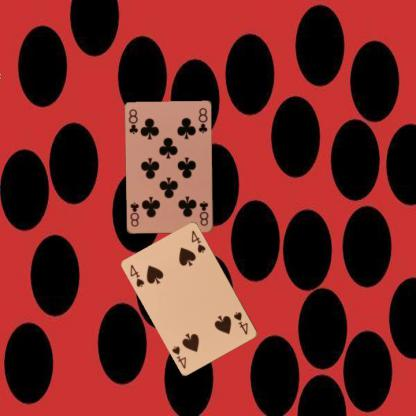4s: (231, 309, 250, 336), (128, 262, 146, 288)
8c: (126, 106, 139, 136), (197, 199, 210, 227)
